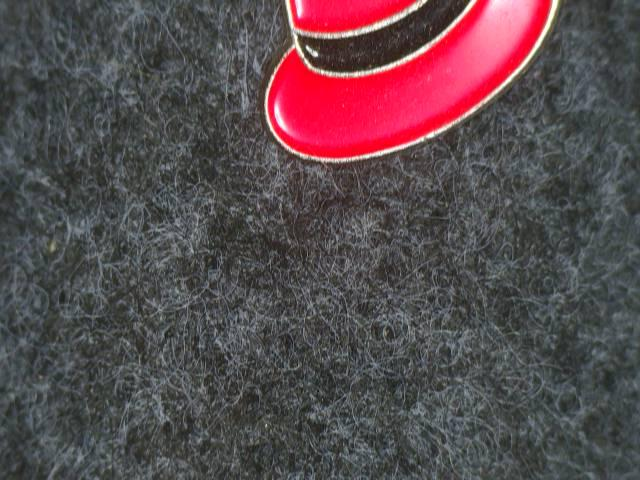Red-Hat: (234, 0, 583, 200)
